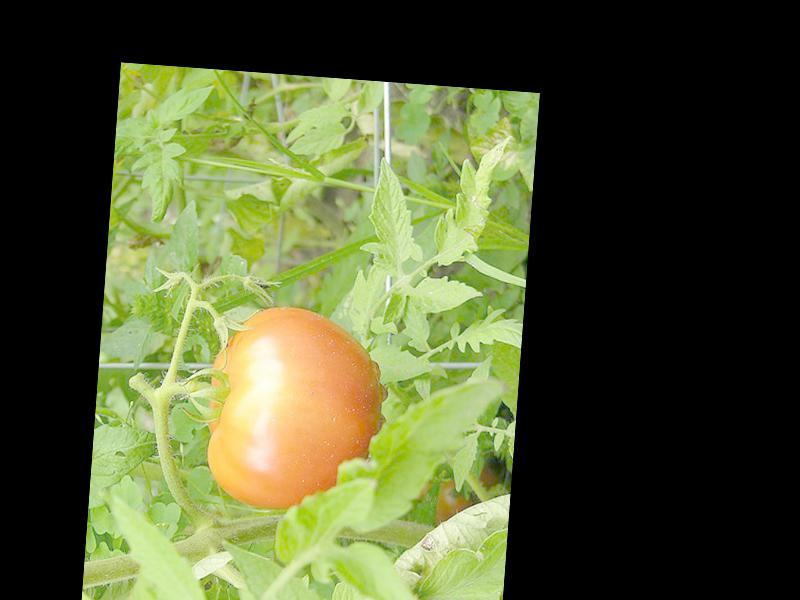Tomato: (200, 303, 385, 514)
